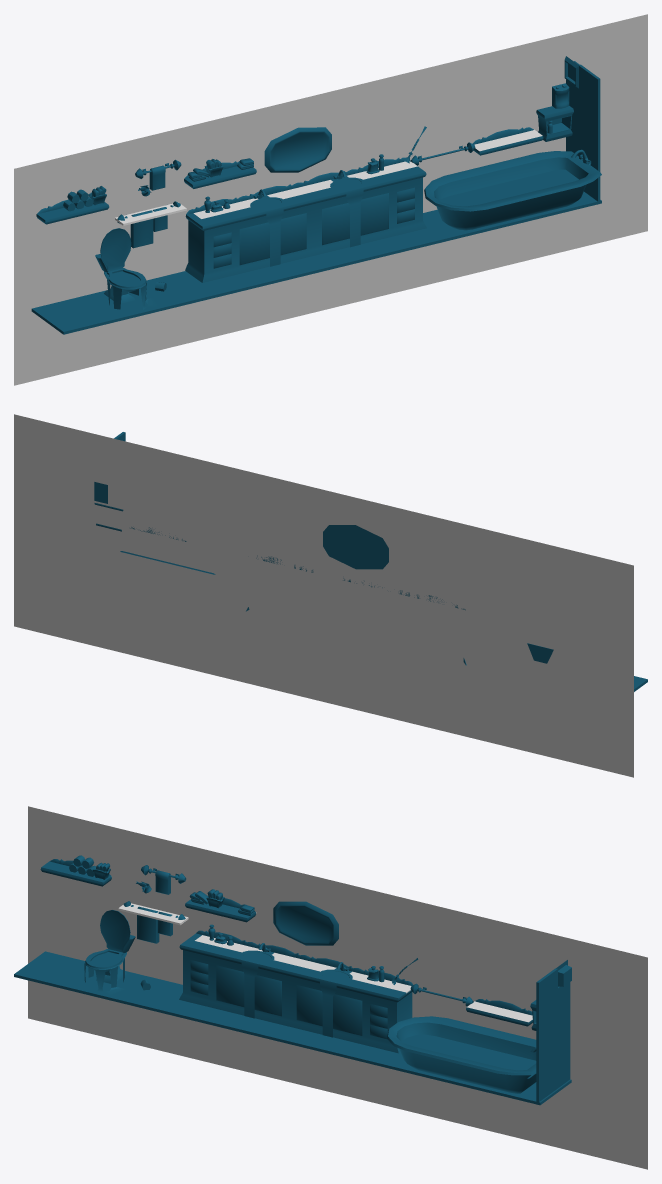
File: lvl2.fbx
The picture shows the model from 3 angles, top to bottom: view 1: azimuth 30°, elevation 25°; view 2: azimuth 150°, elevation 25°; view 3: azimuth 330°, elevation 25°; orthographic projection. The views are drawn at different scales.
Visible parts, largest first — view 1: lv_2, tovallola023, Box024, Box026; view 2: lv_2, tovallola023; view 3: lv_2, tovallola023, Box024, Box026.
Boxes of the visible parts, x1,y1,x2,y2 form: lv_2: (14, 14, 647, 385); tovallola023: (31, 56, 601, 334); Box024: (115, 202, 186, 225); Box026: (474, 129, 542, 151); lv_2: (14, 414, 633, 777); tovallola023: (94, 432, 647, 691); lv_2: (28, 806, 647, 1169); tovallola023: (14, 855, 571, 1105); Box024: (118, 903, 188, 925); Box026: (467, 1001, 532, 1022).
Bounding box in the file's own units: 111 × 36.41 × 13.41.
